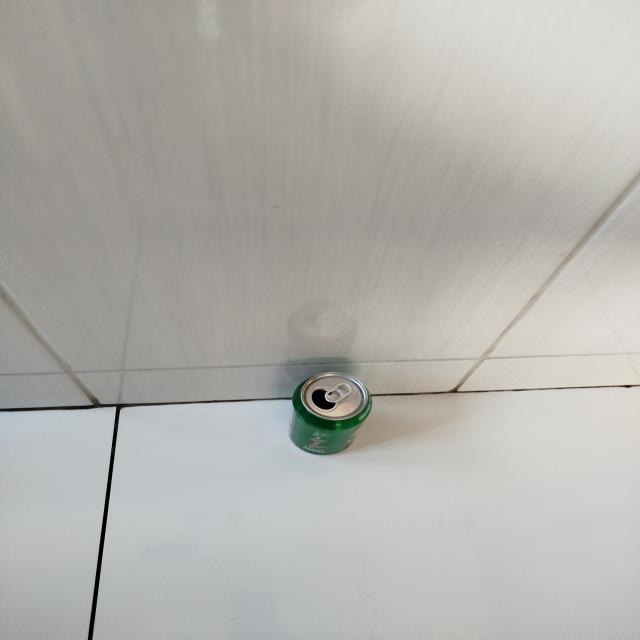Guarana: (288, 370, 372, 454)
